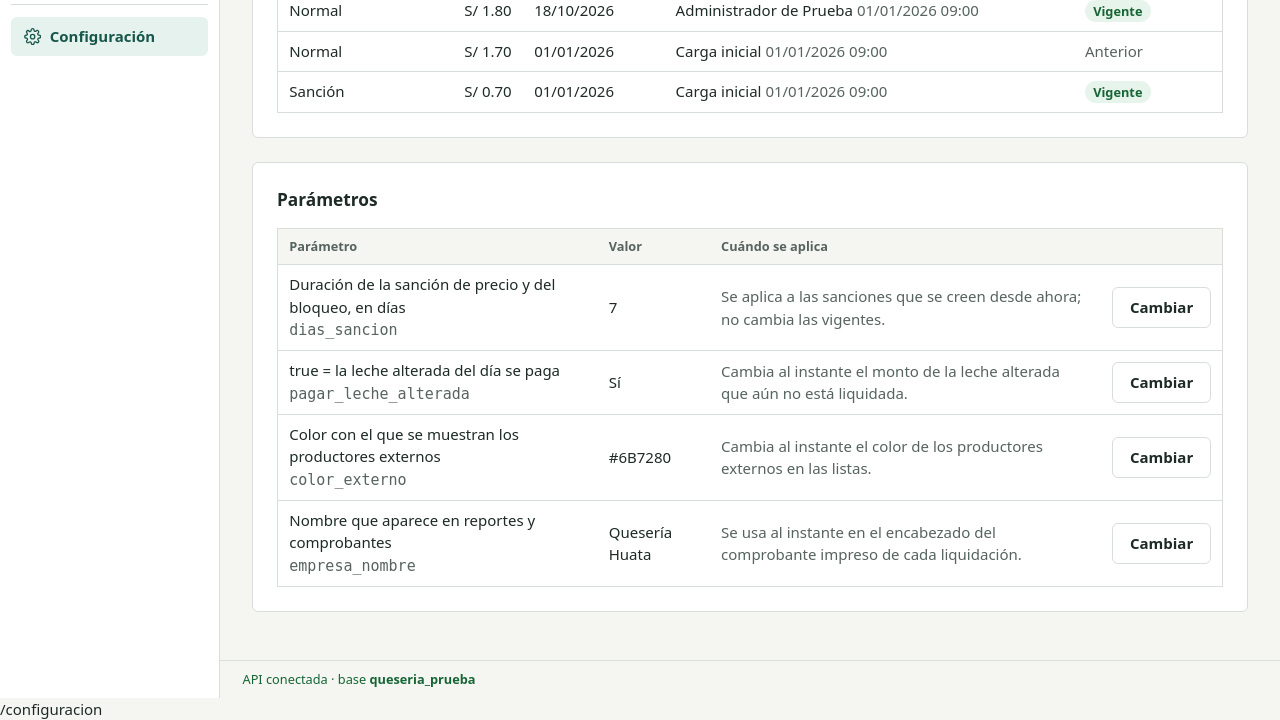
Test: configuración: parámetros › true/false se elige con Sí/No; el formato lo valida el servidor y su mensaje se muestra
(page scrolled)
Expected: the table named "Parámetros" is shown, left=277, top=228, right=1223, bottom=587
Click the button with aria-label "Cambiar pagar_leche_alterada": (1162, 382) left=1112, top=362, right=1211, bottom=403
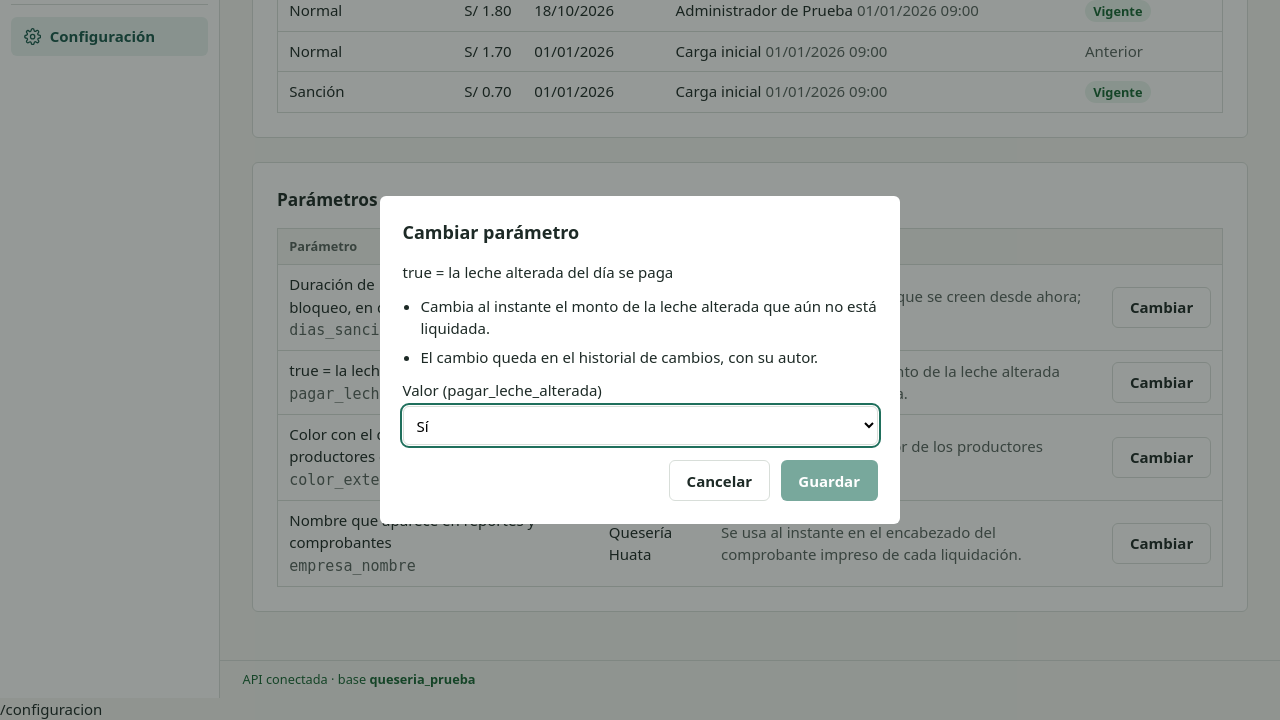
Select "No" in the dropdown labelled "Valor (pagar_leche_alterada)": (640, 426) left=402, top=406, right=878, bottom=445
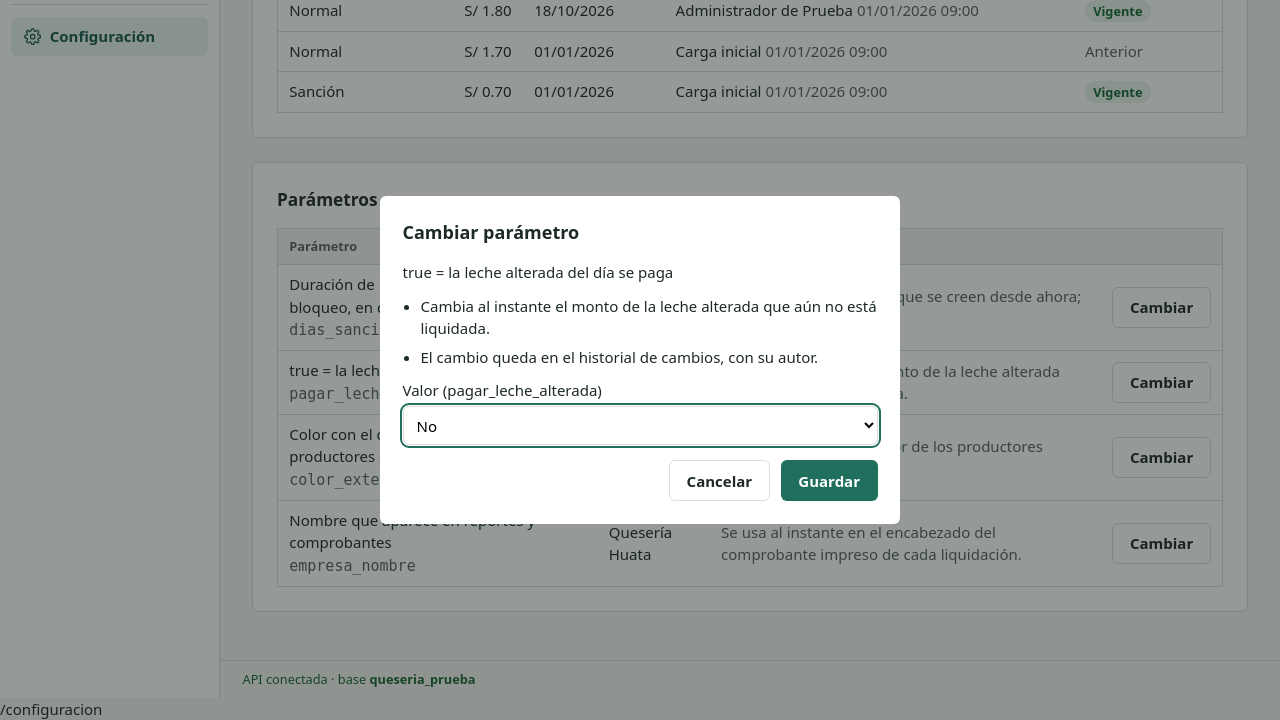
Click the button "Guardar": (829, 481) left=781, top=460, right=878, bottom=501
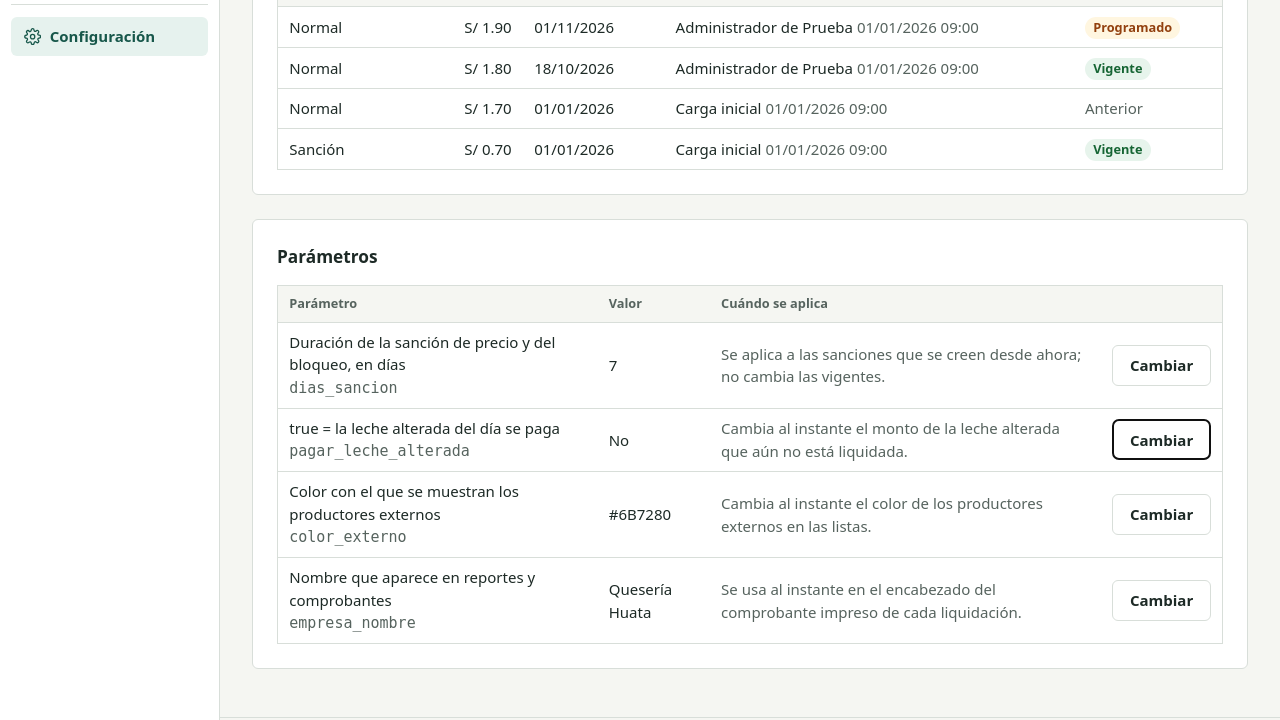
Click the button with aria-label "Cambiar dias_sancion": (1162, 365) left=1112, top=345, right=1211, bottom=386
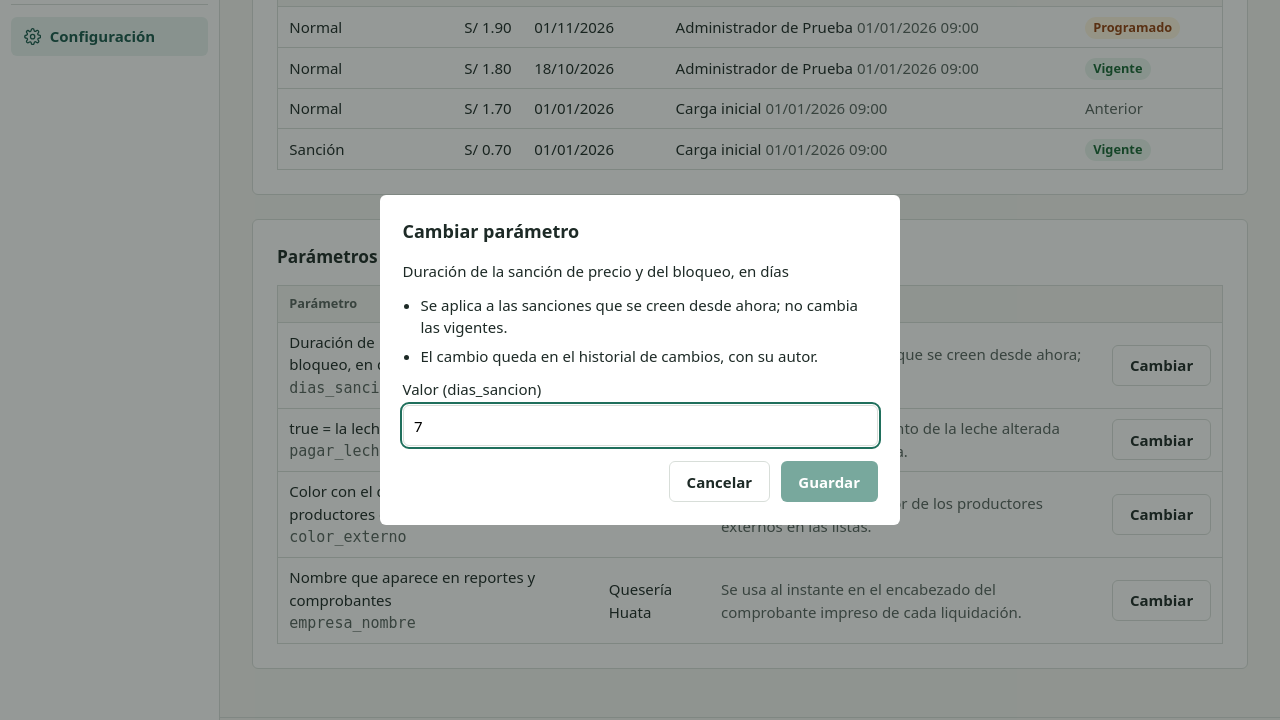
Replace the text in the field labelled "Valor (dias_sancion)" with "7.5": (640, 426) left=402, top=405, right=878, bottom=446
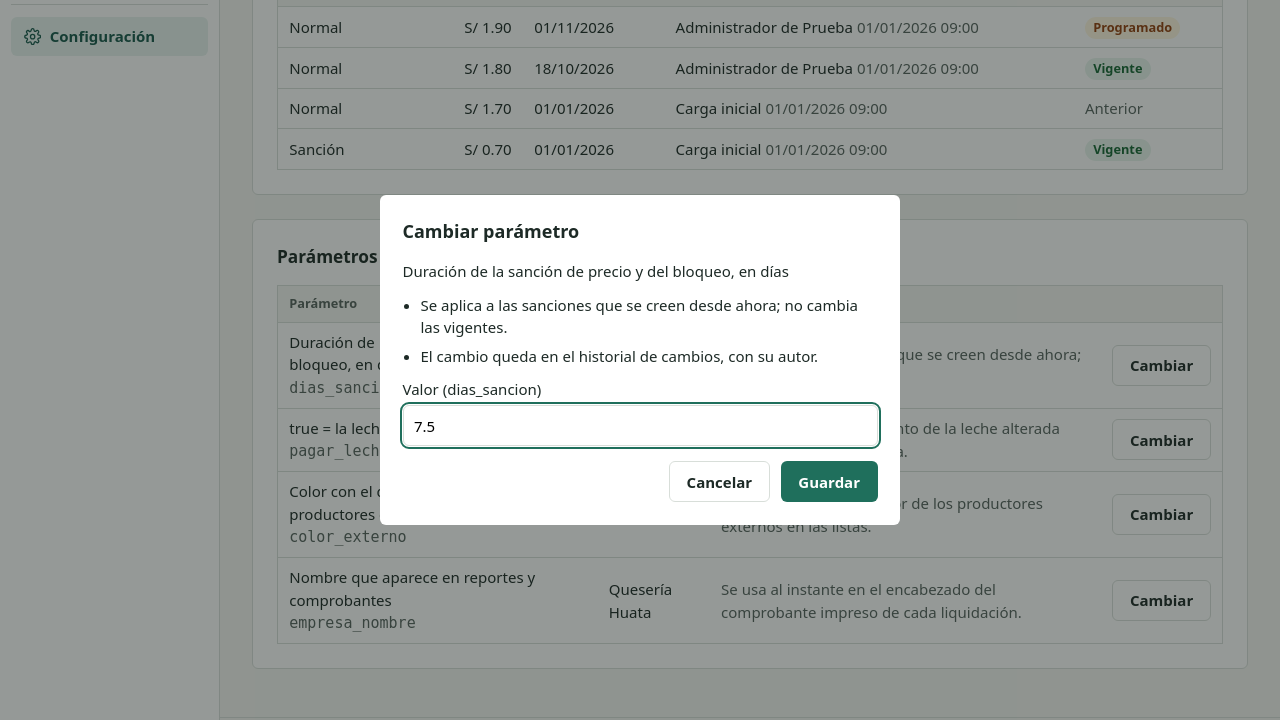
Click the button "Guardar": (829, 482) left=781, top=461, right=878, bottom=502
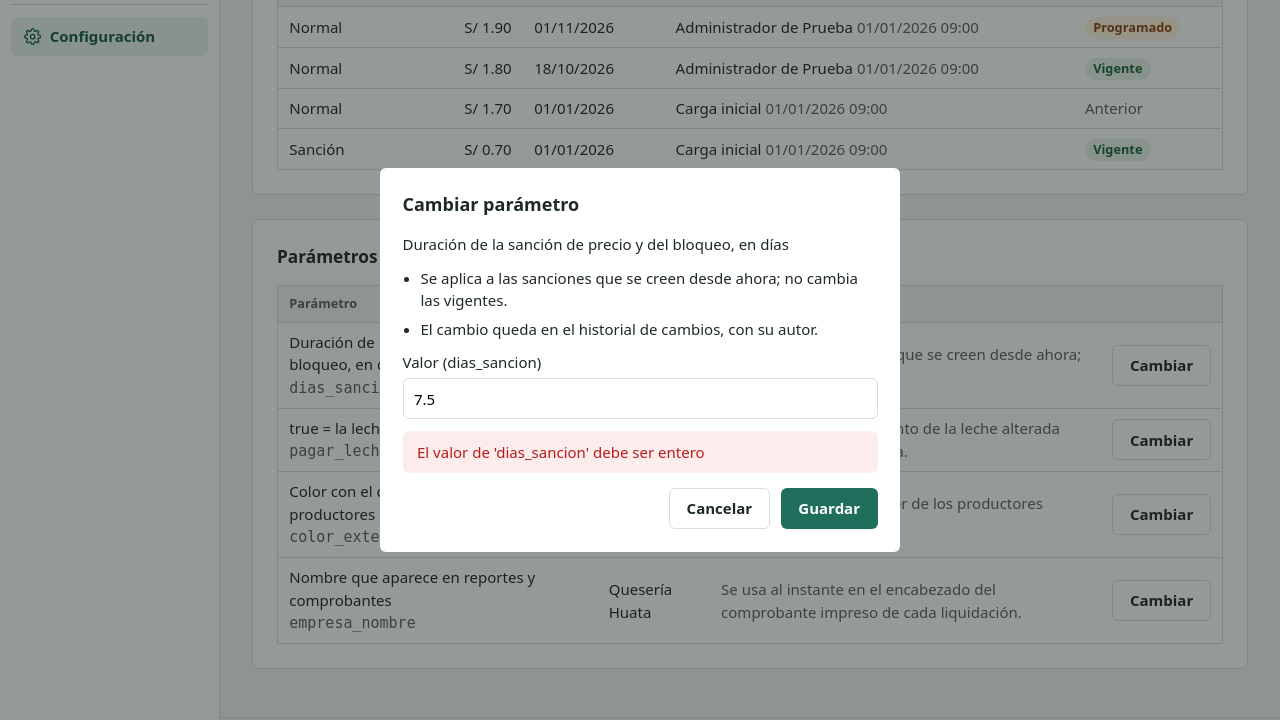
Result: the message reads "El valor de 'dias_sancion' debe ser entero" at left=417, top=442, right=705, bottom=462
